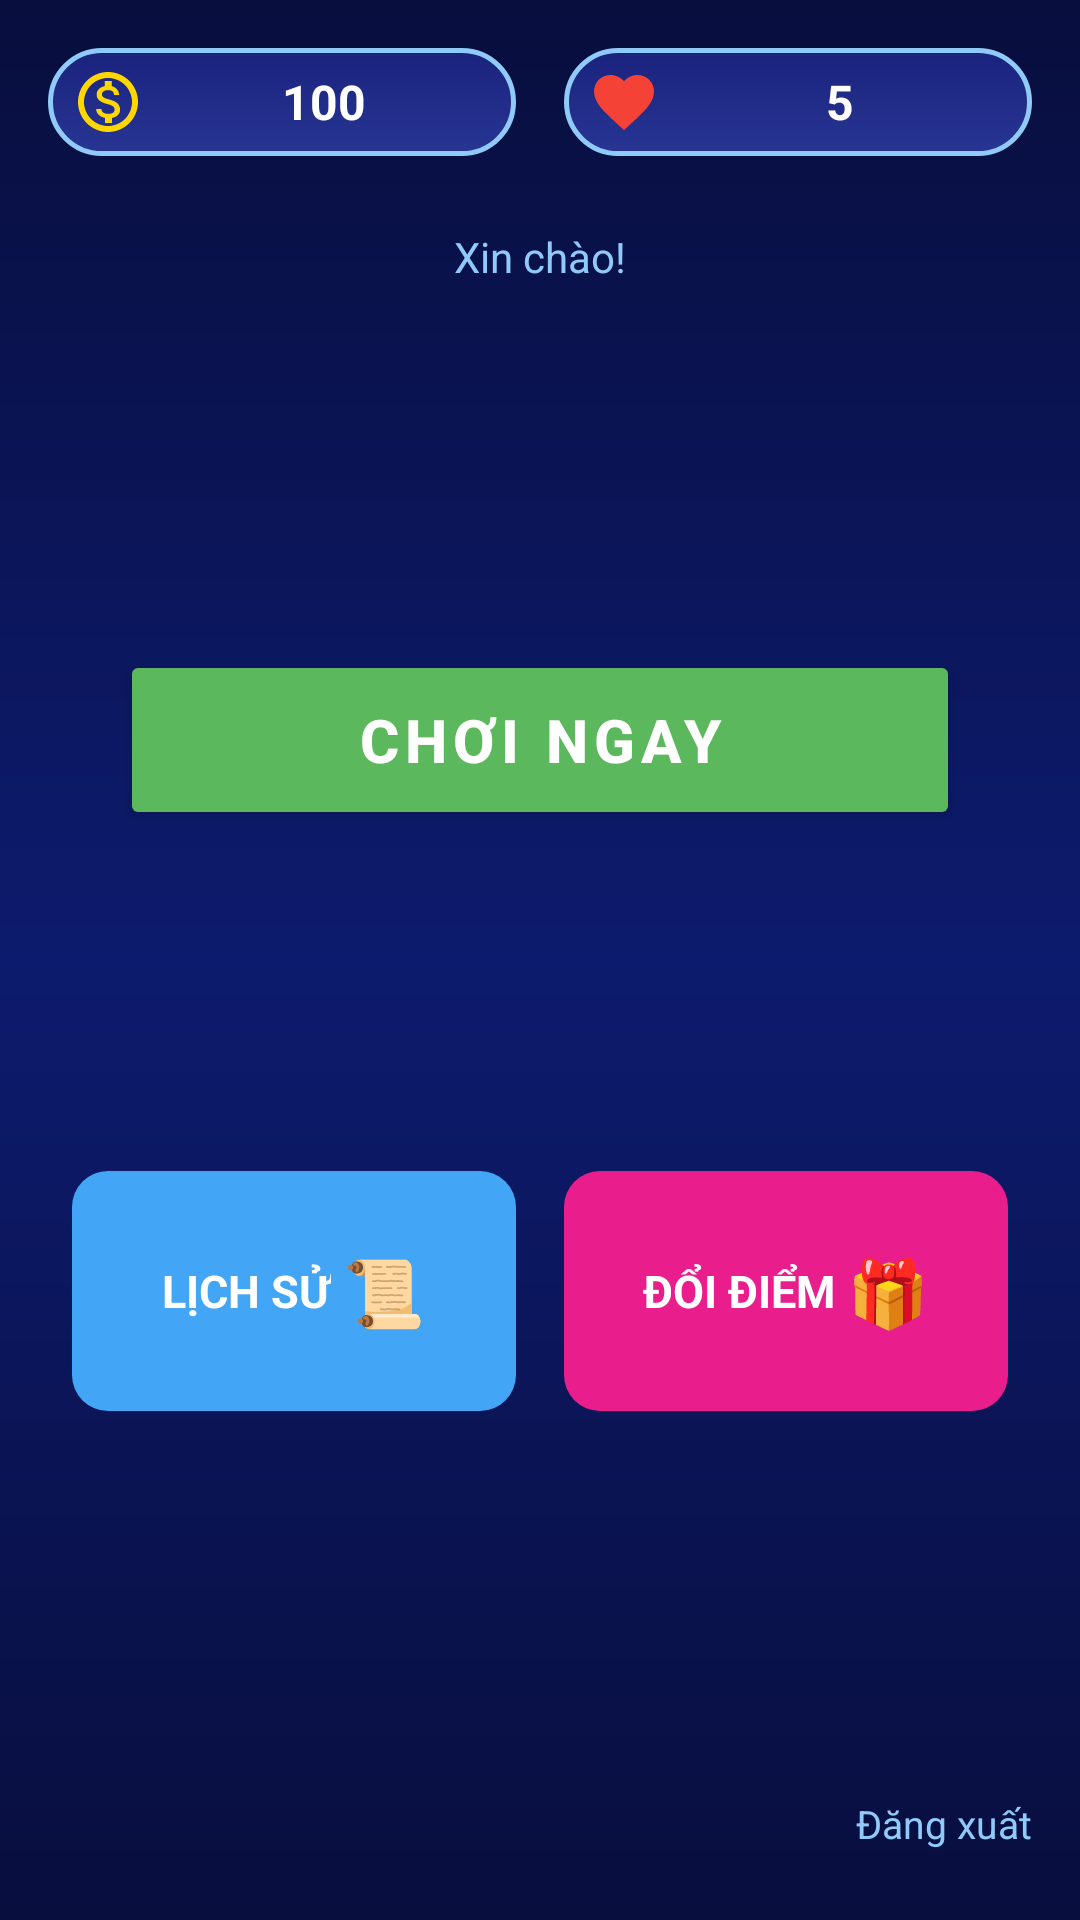

Where to tap for icons on this 1080*1920 app screen, as (x,y):
Tim: (624,102)
Điểm xu: (108,102)
